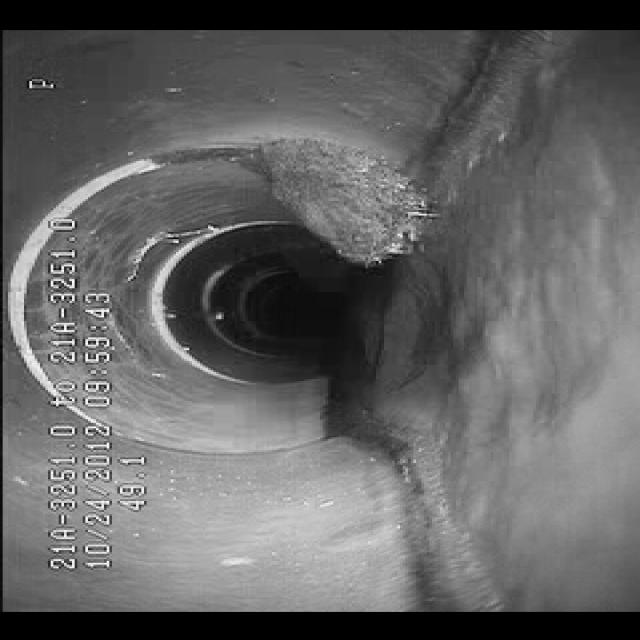Crack: (77, 215, 223, 369)
